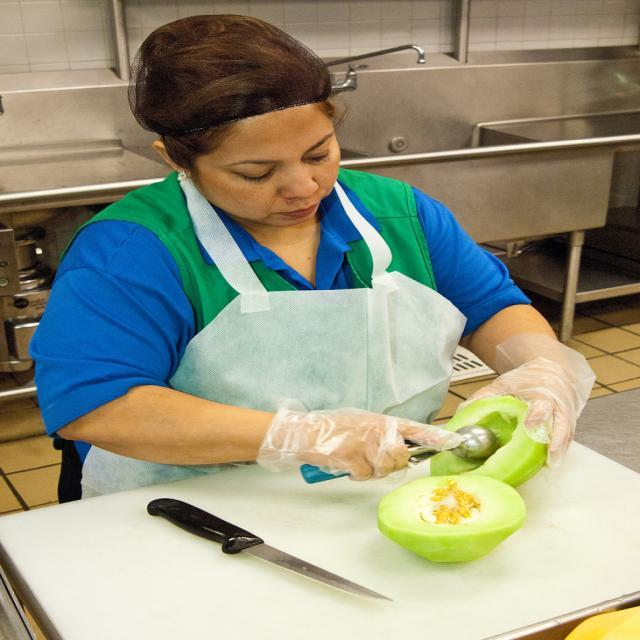Knife: (148, 498, 391, 599)
